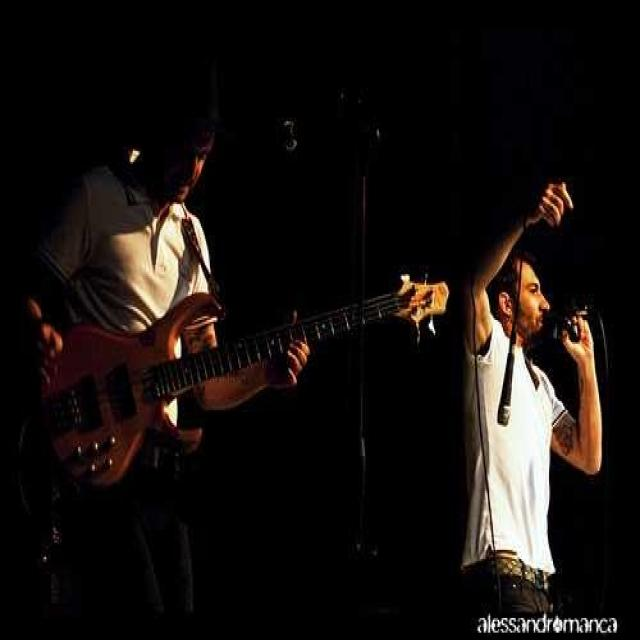microphone: (496, 215, 528, 428), (273, 109, 395, 164), (559, 314, 594, 363)
